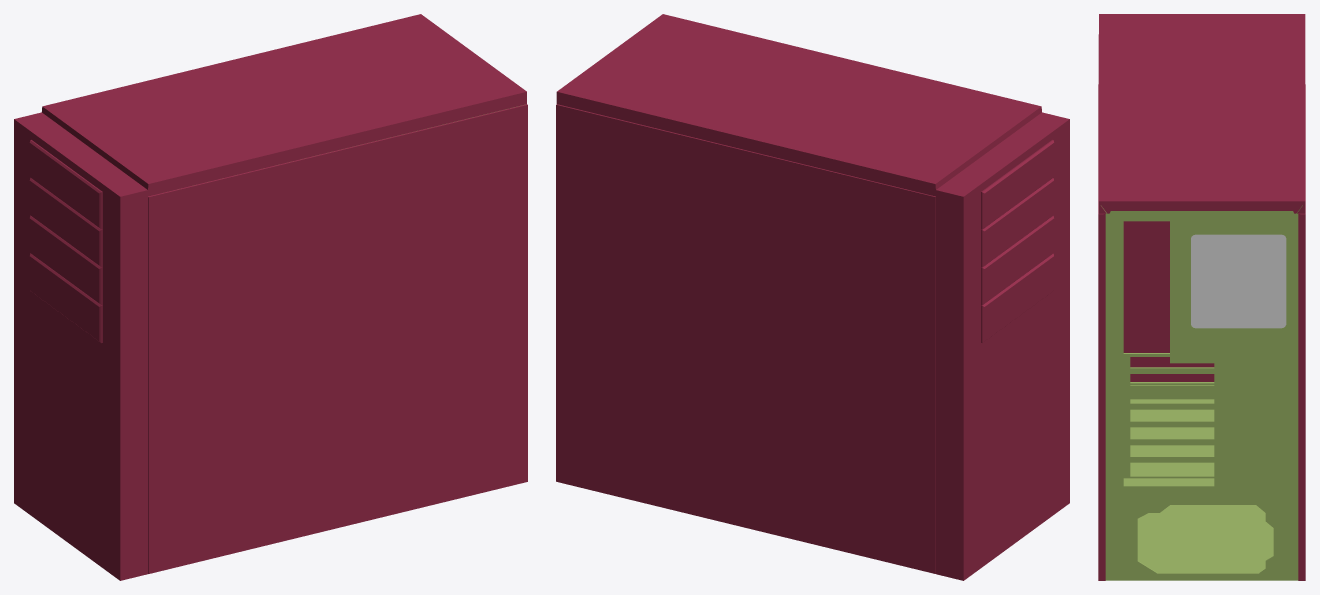
Rendered from pc_case_a_cover.fbx.
3 renders of one model, left to right at view 1: azimuth 30°, elevation 25°; view 2: azimuth 150°, elevation 25°; view 3: azimuth 270°, elevation 25°, orthographic. The views are drawn at different scales.
Parts seen in each view (by area): view 1: pc_case_a_cover, pc_case_a_frontc; view 2: pc_case_a_cover_door, pc_case_a_cover, pc_case_a_frontc; view 3: pc_case_a_body, pc_case_a_cover, pc_case_a_wire, pc_case_a_cover_door.
Boxes of the visible parts, x1,y1,x2,y2 form: pc_case_a_cover: (14,14,527,580); pc_case_a_frontc: (29,178,102,267); pc_case_a_cover_door: (556,104,935,573); pc_case_a_cover: (556,14,1069,580); pc_case_a_frontc: (981,178,1054,267); pc_case_a_body: (1101,205,1302,580); pc_case_a_cover: (1098,14,1305,580); pc_case_a_wire: (1191,234,1286,328); pc_case_a_cover_door: (1298,84,1305,580).
Bounding box in the file's own units: 48.76 × 44.32 × 21.98.
